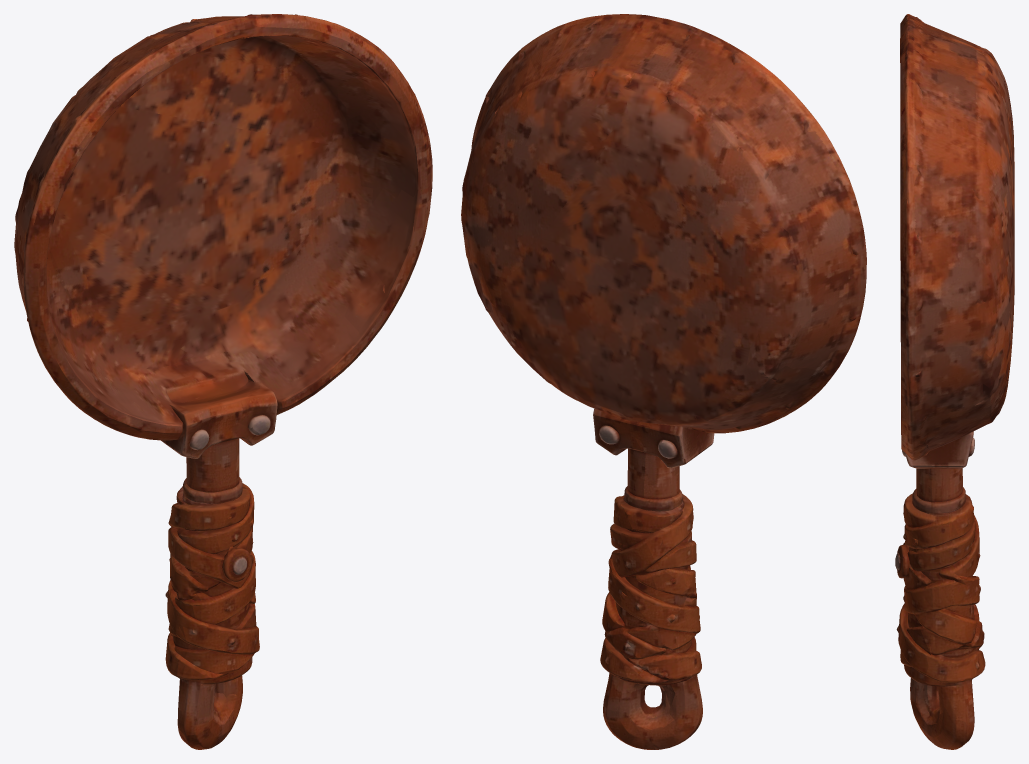
The model's file is frying-pan.glb.
The picture shows the model from 3 angles, left to right: view 1: azimuth 30°, elevation 25°; view 2: azimuth 150°, elevation 25°; view 3: azimuth 270°, elevation 25°; orthographic projection. The views are drawn at different scales.
Visible parts, largest first — view 1: Mesh_0; view 2: Mesh_0; view 3: Mesh_0.
Boxes of the visible parts, x1,y1,x2,y2 form: Mesh_0: (14,14,432,749); Mesh_0: (461,14,866,749); Mesh_0: (895,14,1014,749).
Bounding box in the file's own units: 1.1 × 1.9 × 0.29.
Materials: 1 (1 with a texture image).
